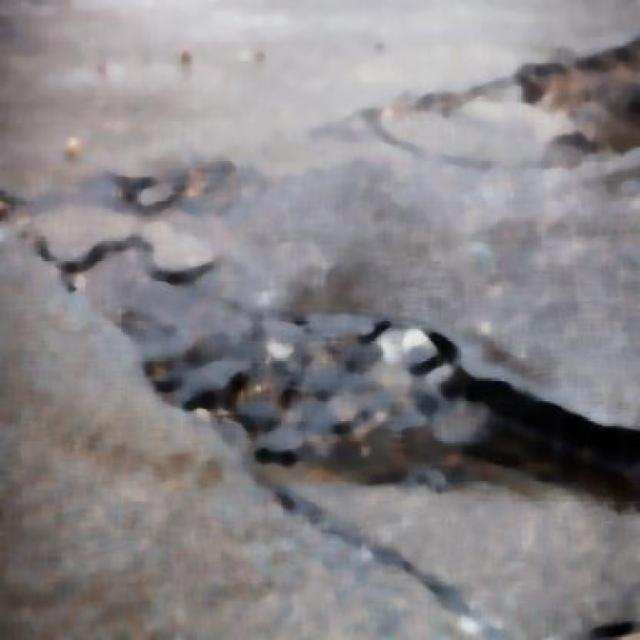Pothole: (87, 237, 638, 528)
